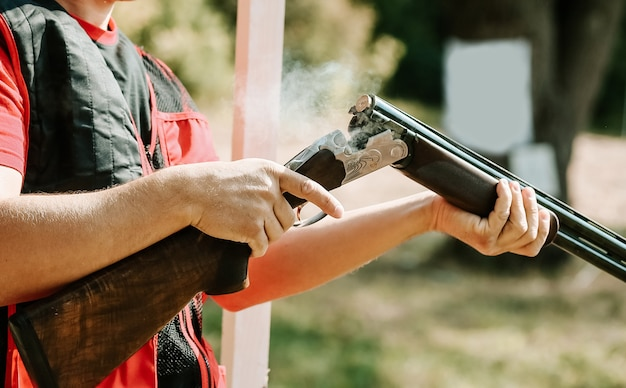gun: (9, 93, 626, 388)
